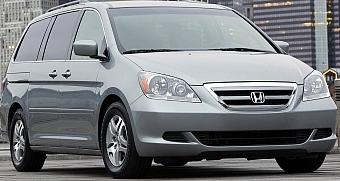front_view: (131, 56, 335, 153)
headlight: (133, 66, 205, 104)
side_glass: (39, 9, 121, 66)
